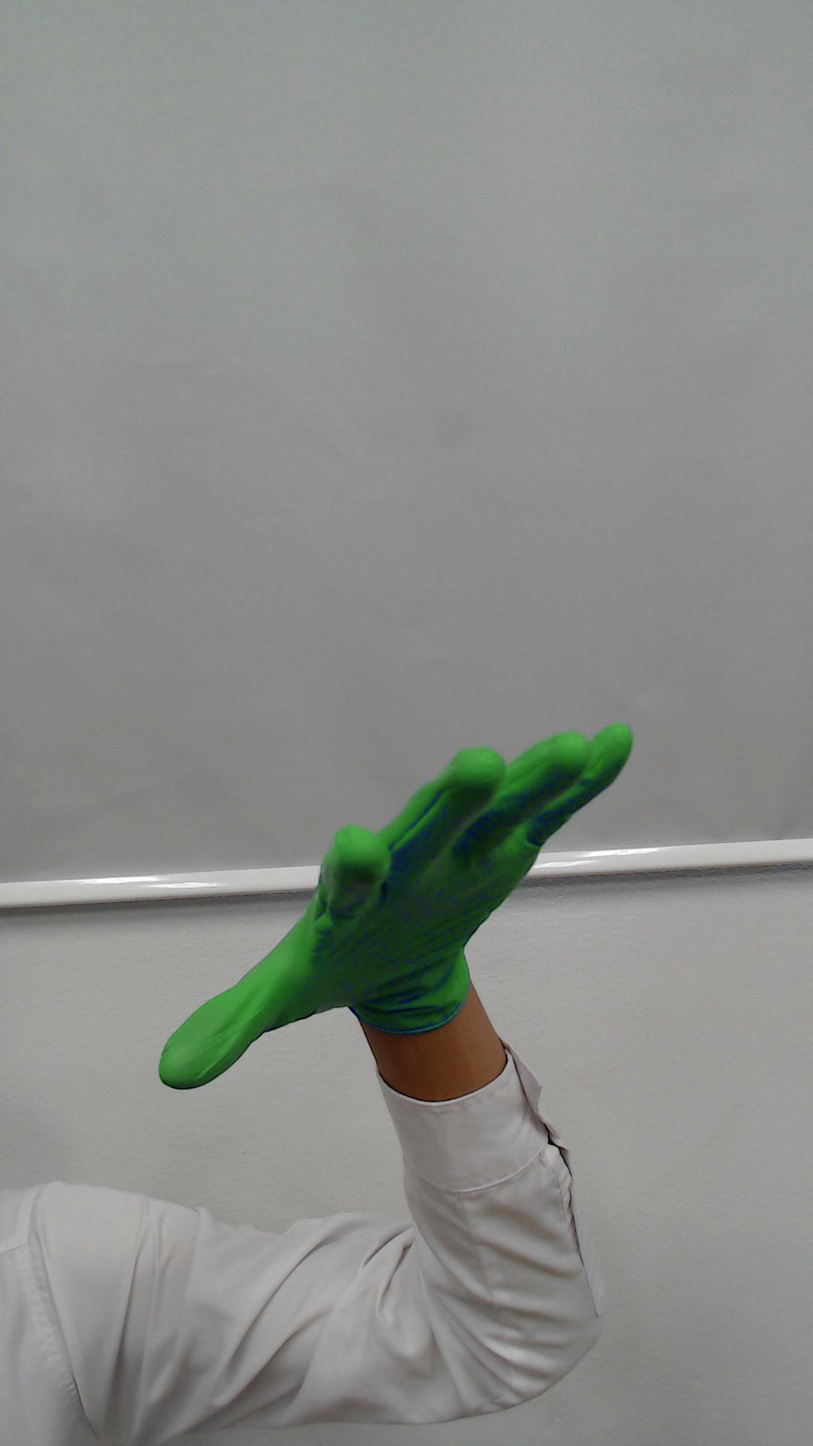gloves: (156, 712, 640, 1096)
